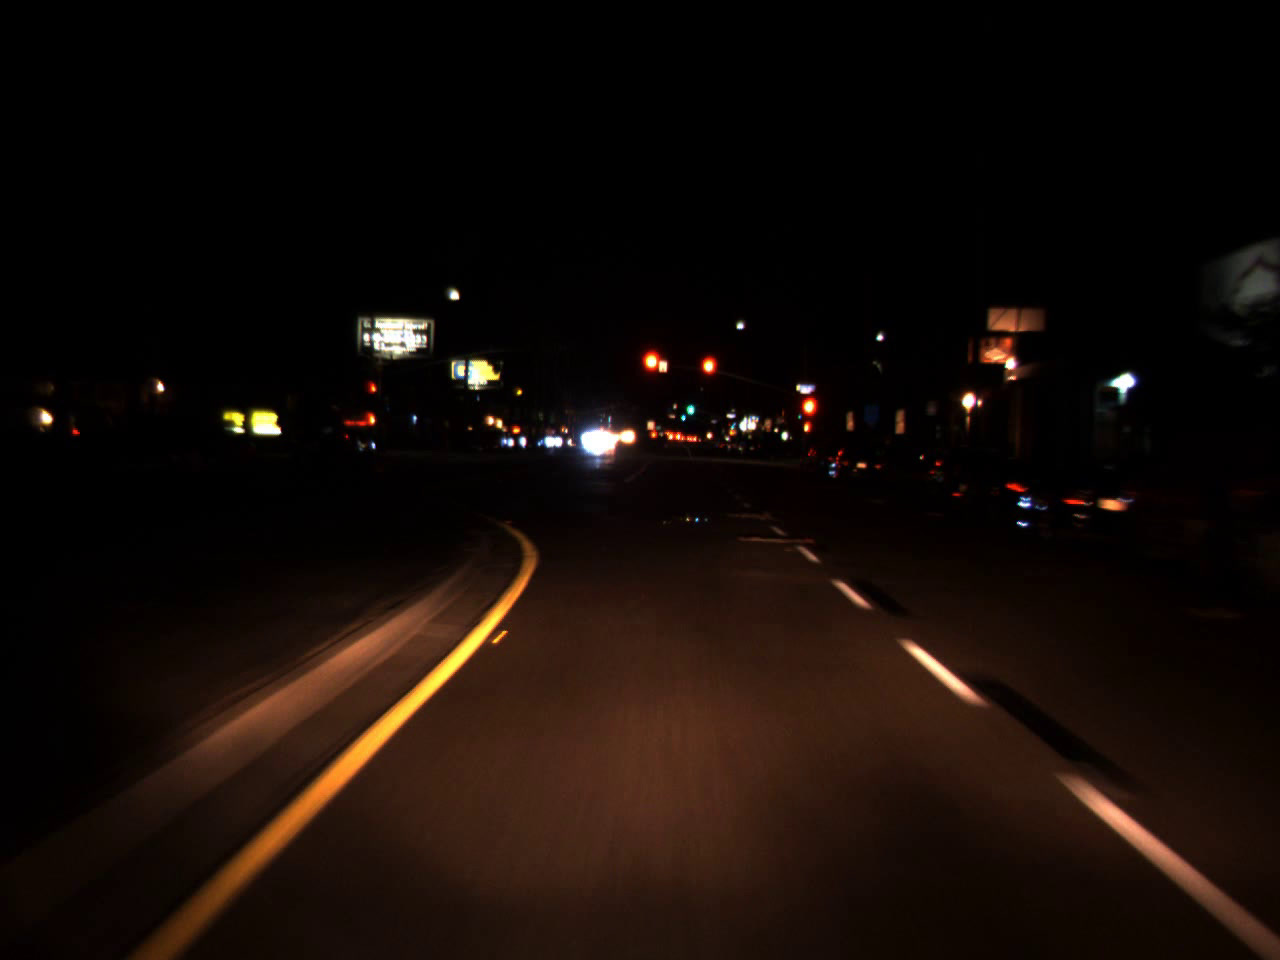go: (683, 394, 695, 418), (729, 416, 736, 431), (679, 410, 686, 422)
stop: (640, 347, 664, 395), (798, 393, 819, 438), (699, 354, 718, 397), (365, 379, 378, 411)
